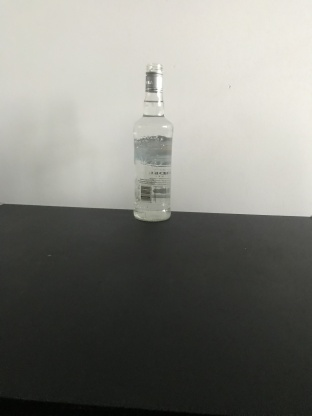nakretka: (143, 62, 164, 93)
